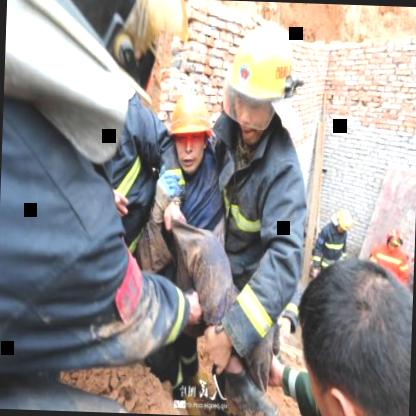helmet: (289, 254, 414, 416), (223, 19, 302, 144), (164, 89, 216, 176), (334, 208, 354, 236)
